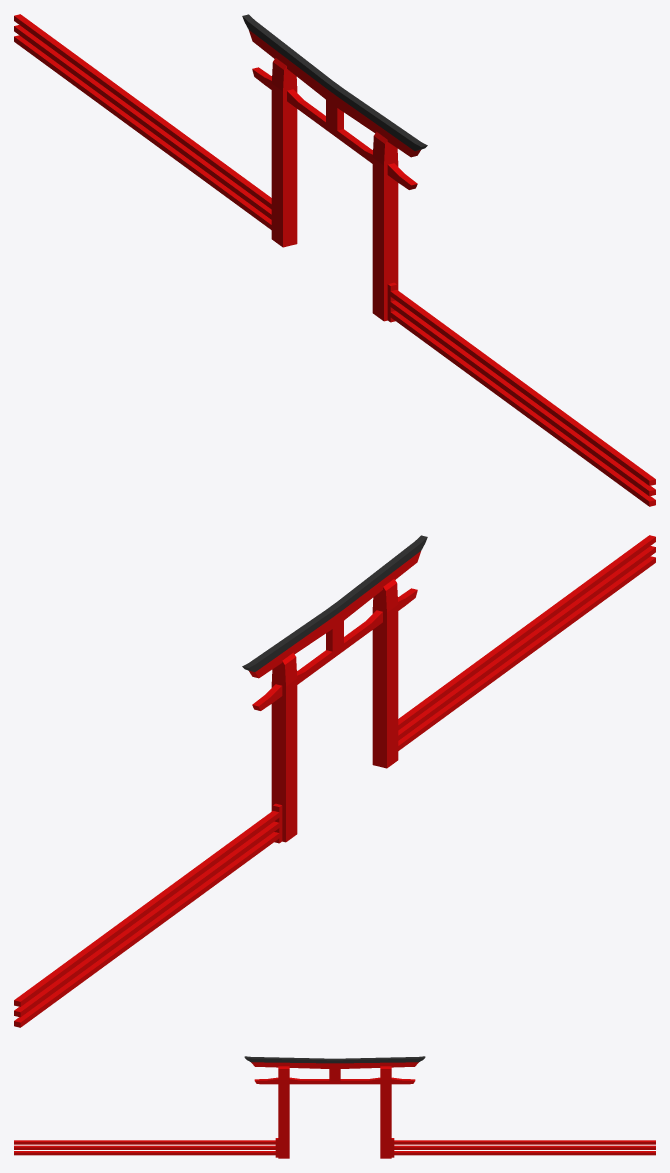
3 views of the same model, one above another, from view 1: azimuth 30°, elevation 25°; view 2: azimuth 150°, elevation 25°; view 3: azimuth 270°, elevation 25° (orthographic). The views are drawn at different scales.
Parts seen in each view (by area): view 1: Cube; view 2: Cube; view 3: Cube.
Boxes of the visible parts, x1,y1,x2,y2 form: Cube: (14, 14, 655, 506); Cube: (14, 535, 655, 1027); Cube: (14, 1056, 655, 1158).
Bounding box in the file's own units: 76.45 × 1011 × 5882.
